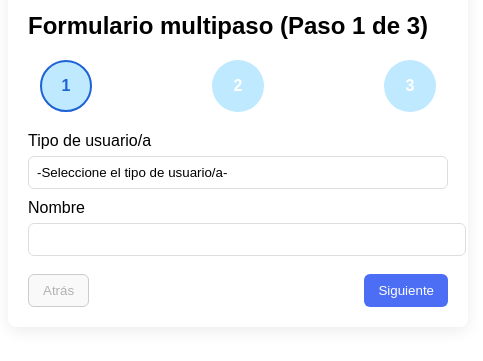
Test case: MultiStepForm › valida que el botón de envío solo aparece en el paso 3
Expected: the button "Enviar" is not shown
Paso 2: Botones Atrás y Siguiente
Step 1. Click the button "Siguiente" → x=406, y=290, box [364,274,448,307]
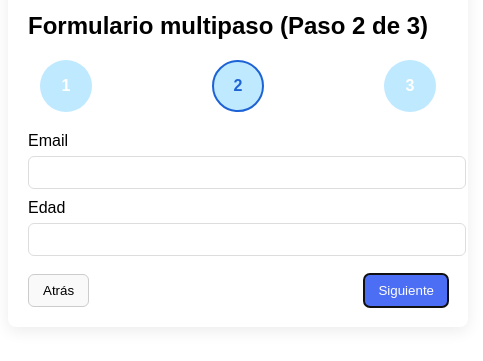
Expected: the button "Enviar" is not shown
Now the button "Atrás" is enabled, box [28,274,89,307]
Paso 3: Botones Atrás y Enviar
Step 2. Click the button "Siguiente" → x=406, y=290, box [364,274,448,307]
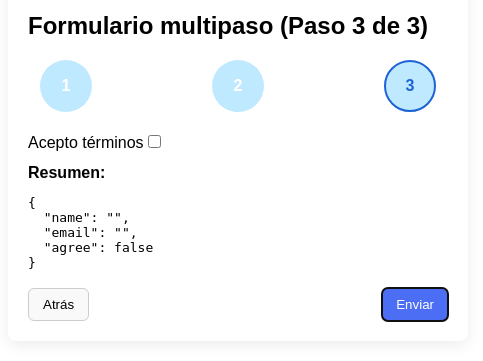
Now the button "Atrás" is enabled, box [28,288,89,321]
Now the button "Siguiente" is gone
Now the button "Enviar" is shown, box [382,288,448,321]
